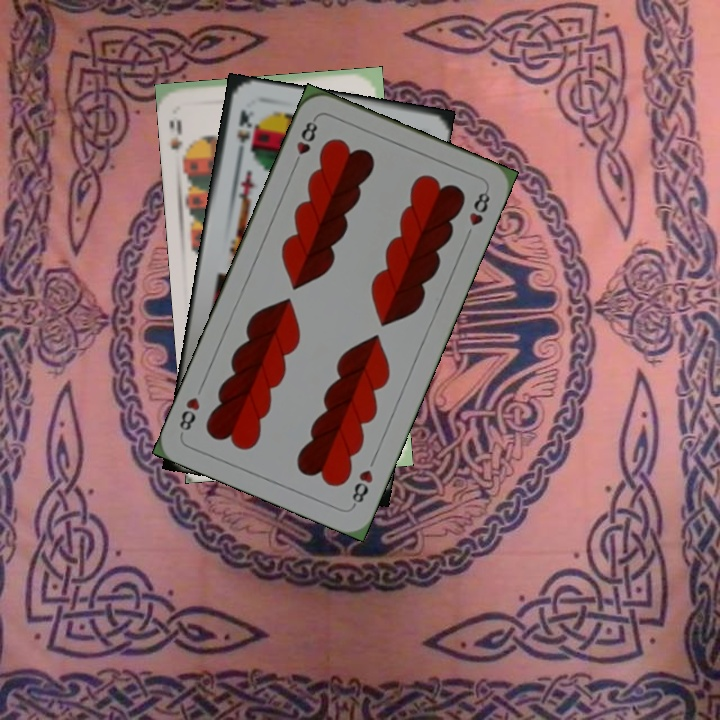H8: (289, 114, 320, 170), (347, 465, 376, 510)
S9: (165, 116, 193, 166)
SK: (232, 106, 255, 161)
